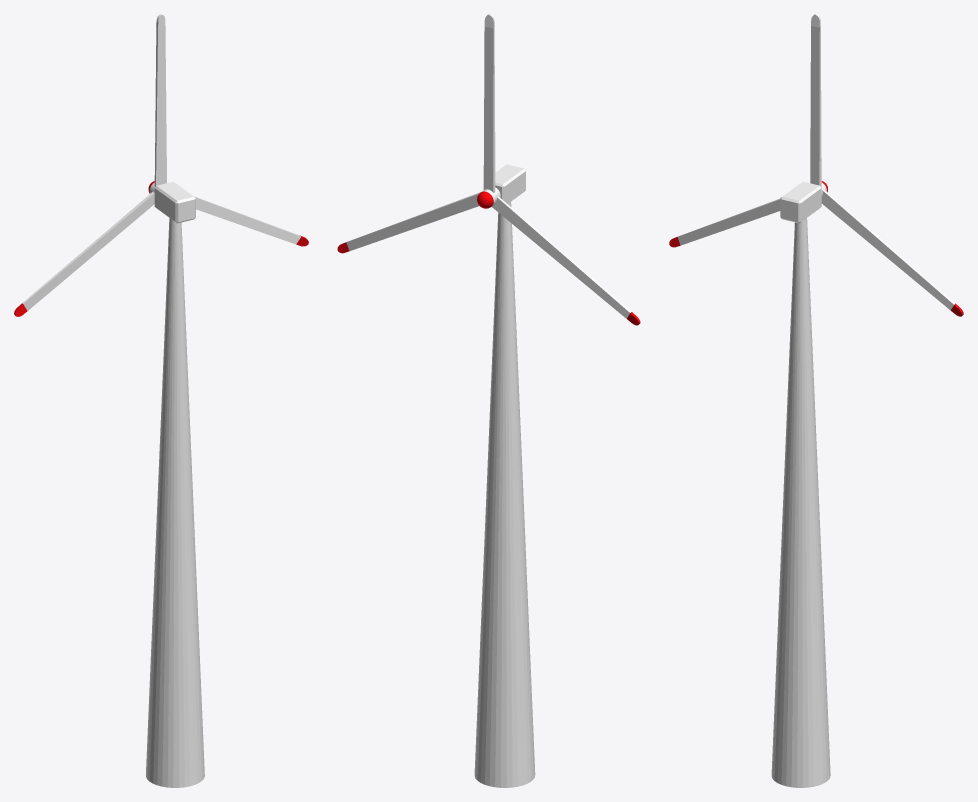
Rendered from vetr_ele2.glb.
3 renders of one model, left to right at view 1: azimuth 30°, elevation 25°; view 2: azimuth 150°, elevation 25°; view 3: azimuth 330°, elevation 25°, orthographic. The views are drawn at different scales.
Visible parts, largest first — view 1: větrná elektrárna; view 2: větrná elektrárna; view 3: větrná elektrárna.
Boxes of the visible parts, x1,y1,x2,y2 form: větrná elektrárna: (14,14,308,787); větrná elektrárna: (337,14,640,787); větrná elektrárna: (669,14,963,787).
Size of the model in its own units: 3.95 by 9.64 by 0.8722.
2 materials, 1 textured.
